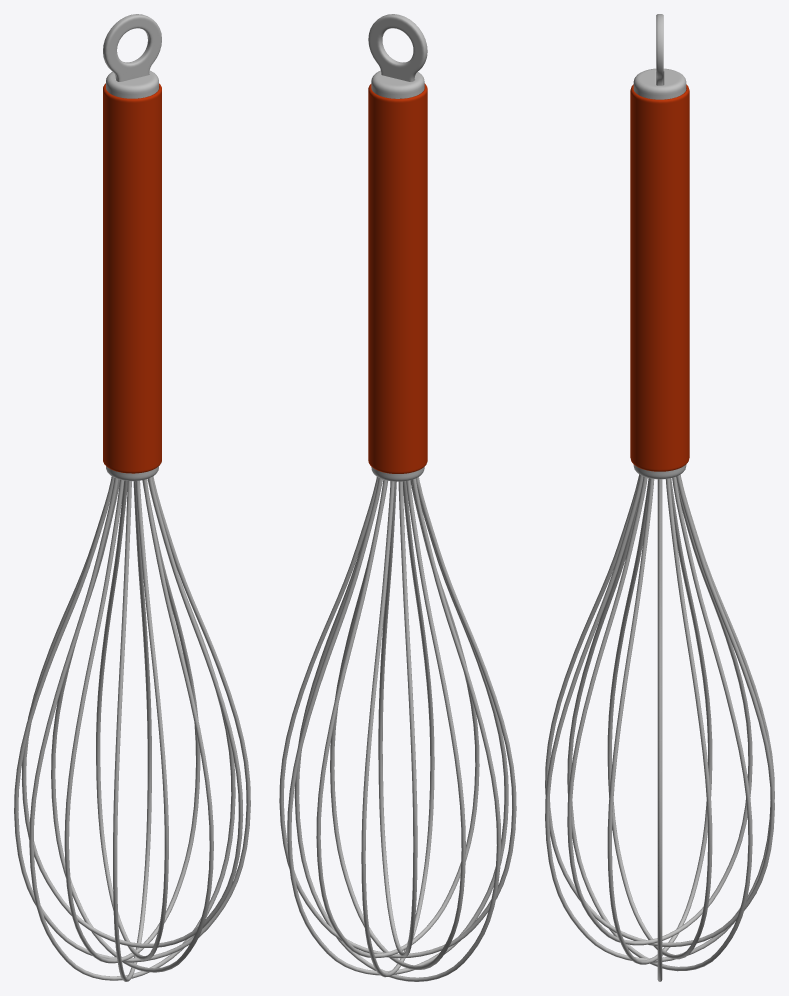
File: Tool_KitchenWhip.fbx
3 renders of one model, left to right at view 1: azimuth 30°, elevation 25°; view 2: azimuth 150°, elevation 25°; view 3: azimuth 270°, elevation 25°, orthographic.
Parts seen in each view (by area): view 1: Tool_Common_Whip; view 2: Tool_Common_Whip; view 3: Tool_Common_Whip.
Part boxes in pixels (bbox=[...]): Tool_Common_Whip: bbox=[14, 14, 250, 981]; Tool_Common_Whip: bbox=[279, 14, 516, 981]; Tool_Common_Whip: bbox=[545, 14, 774, 981].
Bounding box in the file's own units: 9.95 × 44.48 × 9.7.
